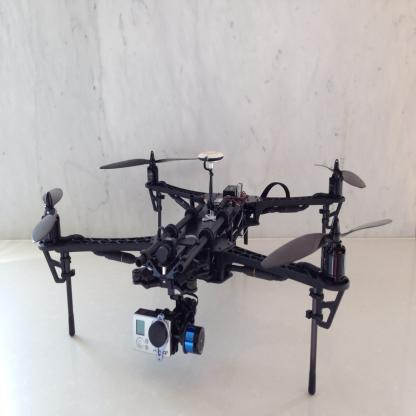drone: (19, 117, 399, 362)
